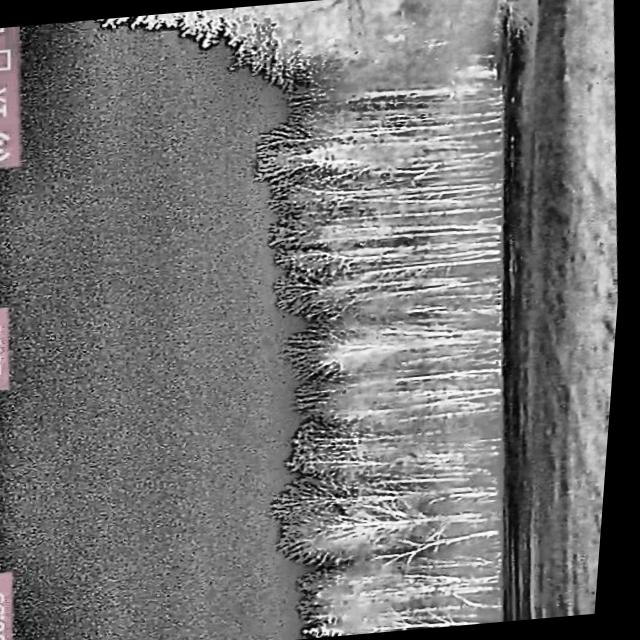drone: (356, 432, 369, 444)
